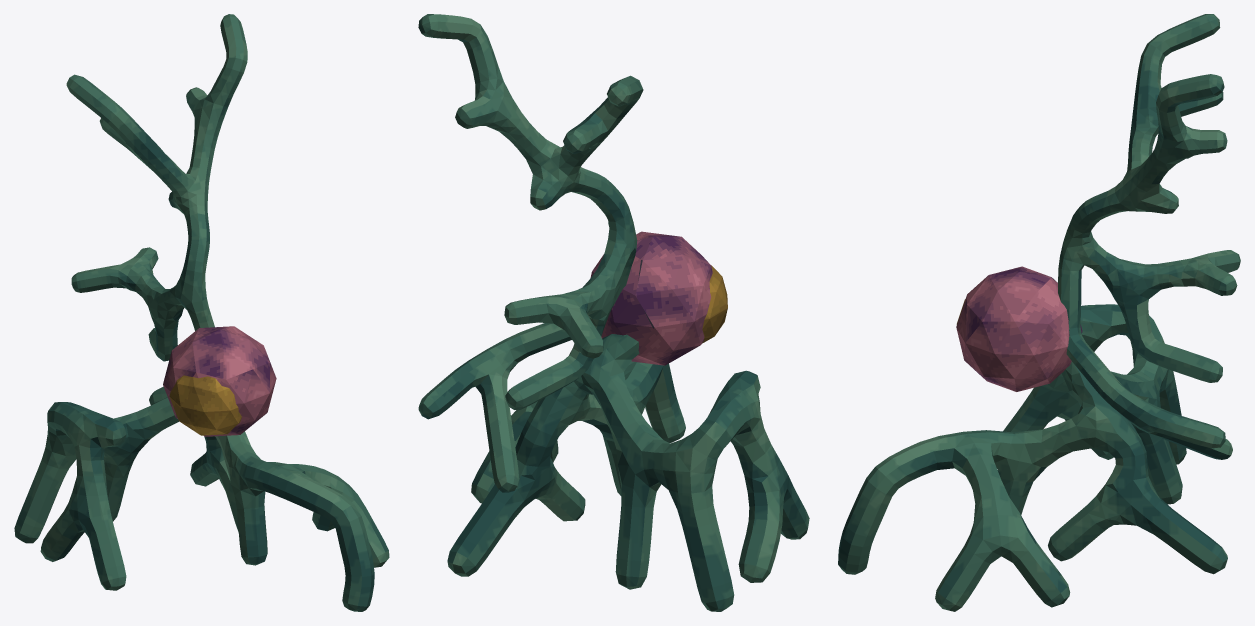
Rendered from Nerven.fbx.
3 views of the same model, side by side, from view 1: azimuth 30°, elevation 25°; view 2: azimuth 150°, elevation 25°; view 3: azimuth 270°, elevation 25° (orthographic). The views are drawn at different scales.
Parts seen in each view (by area): view 1: Nervenstrang V2, Nervenstrang V1, Nerv; view 2: Nervenstrang V2, Nervenstrang V1, Nerv; view 3: Nervenstrang V2, Nervenstrang V1, Nerv.
Boxes of the visible parts, x1=… form: Nervenstrang V2: x1=14, y1=397, x2=389, y2=611; Nervenstrang V1: x1=66, y1=14, x2=247, y2=405; Nerv: x1=163, y1=326, x2=276, y2=436; Nervenstrang V2: x1=447, y1=334, x2=809, y2=611; Nervenstrang V1: x1=418, y1=14, x2=643, y2=492; Nerv: x1=590, y1=231, x2=727, y2=365; Nervenstrang V2: x1=838, y1=304, x2=1227, y2=611; Nervenstrang V1: x1=1058, y1=14, x2=1240, y2=459; Nerv: x1=956, y1=266, x2=1082, y2=391.
Bounding box in the file's own units: 147 × 170 × 243.
1 material, 1 textured.
